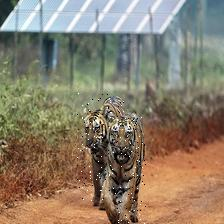tiger: (78, 93, 127, 202), (109, 115, 146, 224)
